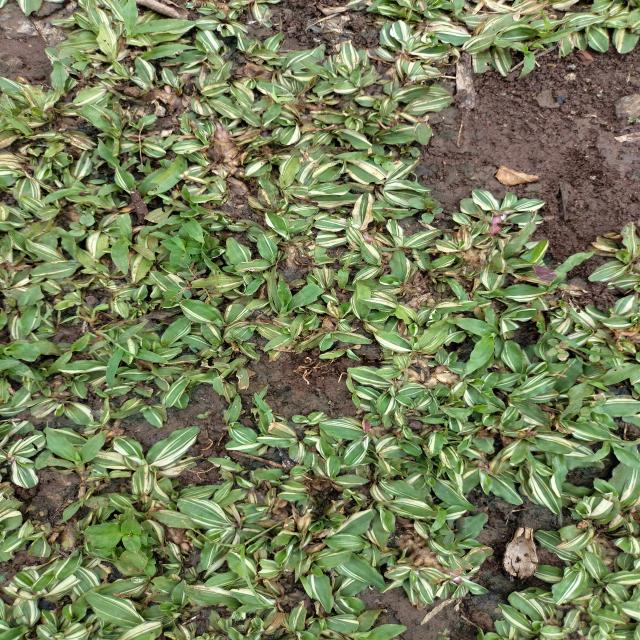bayi: (222, 454, 234, 460), (328, 400, 332, 404)
buah daun: (161, 256, 225, 309)
rambat atas: (94, 319, 151, 391), (552, 329, 622, 360), (56, 304, 111, 329), (252, 384, 273, 424)
rambat bawah: (44, 423, 108, 486), (444, 316, 504, 378), (564, 361, 640, 406), (262, 265, 324, 318), (120, 0, 186, 42), (137, 212, 208, 245), (56, 486, 111, 527), (579, 438, 640, 472), (108, 213, 138, 277), (506, 39, 536, 81), (139, 43, 199, 61), (436, 404, 507, 419), (336, 240, 356, 290), (532, 27, 575, 50), (96, 135, 122, 170), (426, 500, 448, 534)
ungu tunggang: (406, 195, 446, 226), (545, 338, 571, 361)
